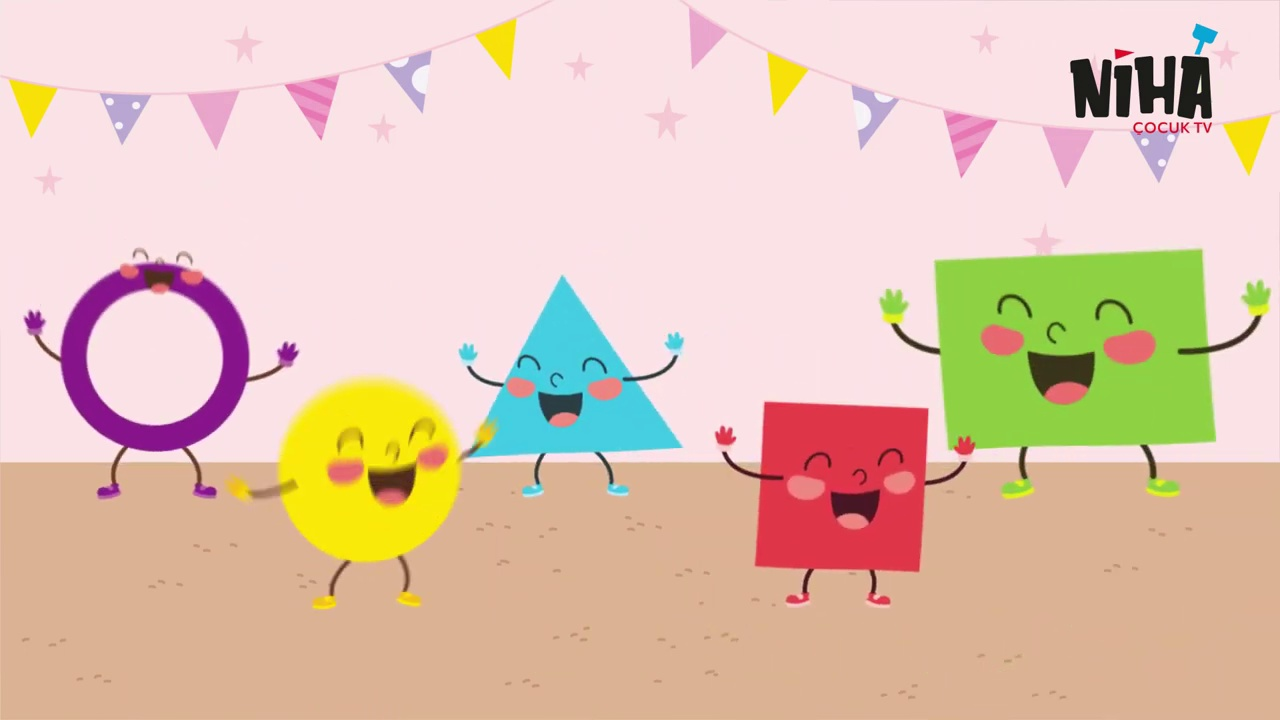daire: (50, 260, 254, 449), (281, 373, 461, 566)
dikdortgen: (929, 253, 1223, 450)
kare: (753, 400, 929, 581)
ucgen: (466, 280, 688, 466)
